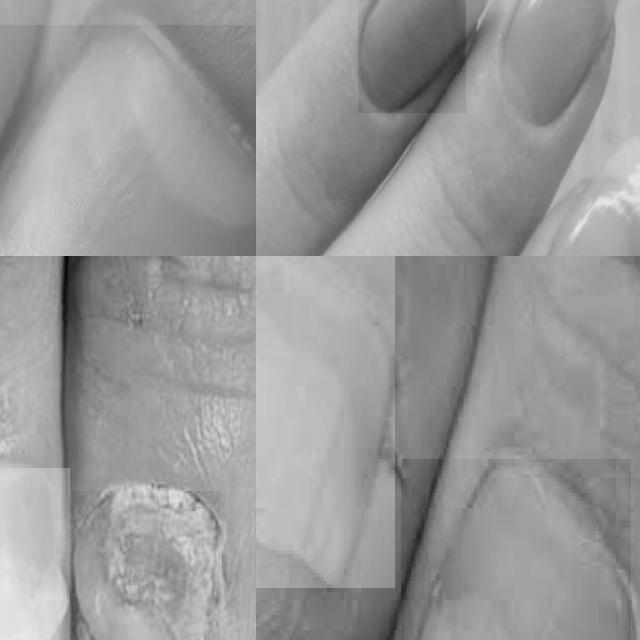diabetes: (0, 26, 256, 256), (256, 256, 395, 588), (418, 459, 631, 640), (72, 492, 220, 640), (0, 468, 70, 640)
sehat: (501, 0, 602, 126), (359, 0, 466, 113), (550, 179, 640, 256)
